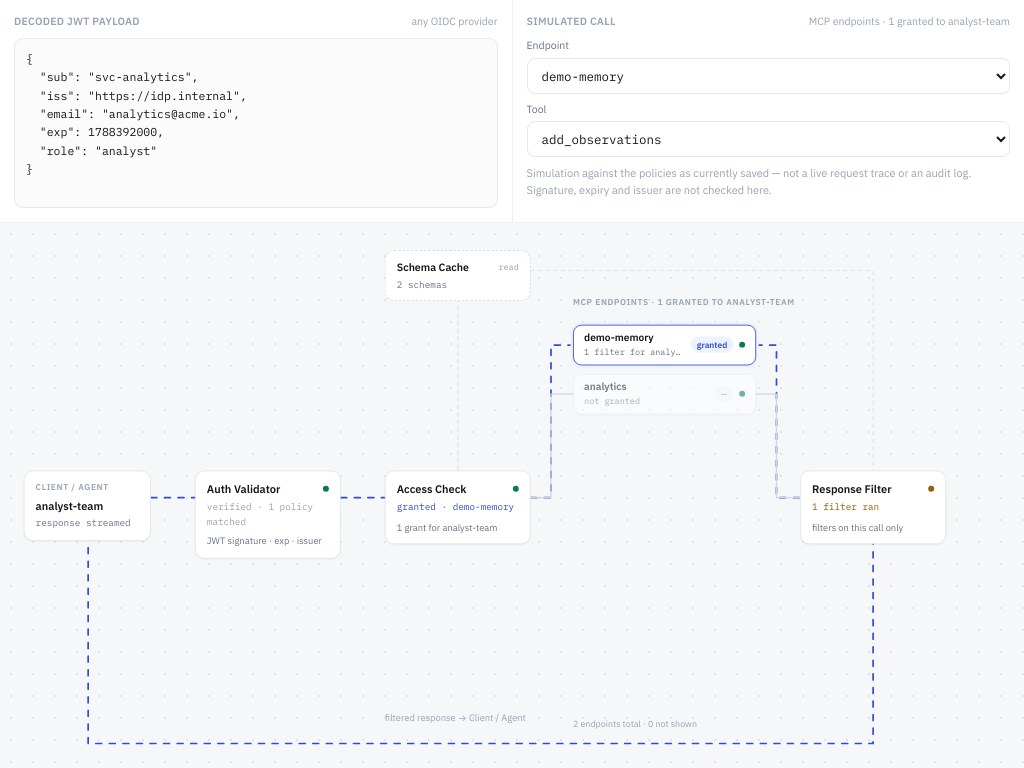
Test: RequestPathTab › editing an input snaps the detail panel back to the request trace, so a new outcome is never hidden behind a stale node selection
Click the button "Response Filter". click: [873, 507]
box: [800, 470, 946, 544]
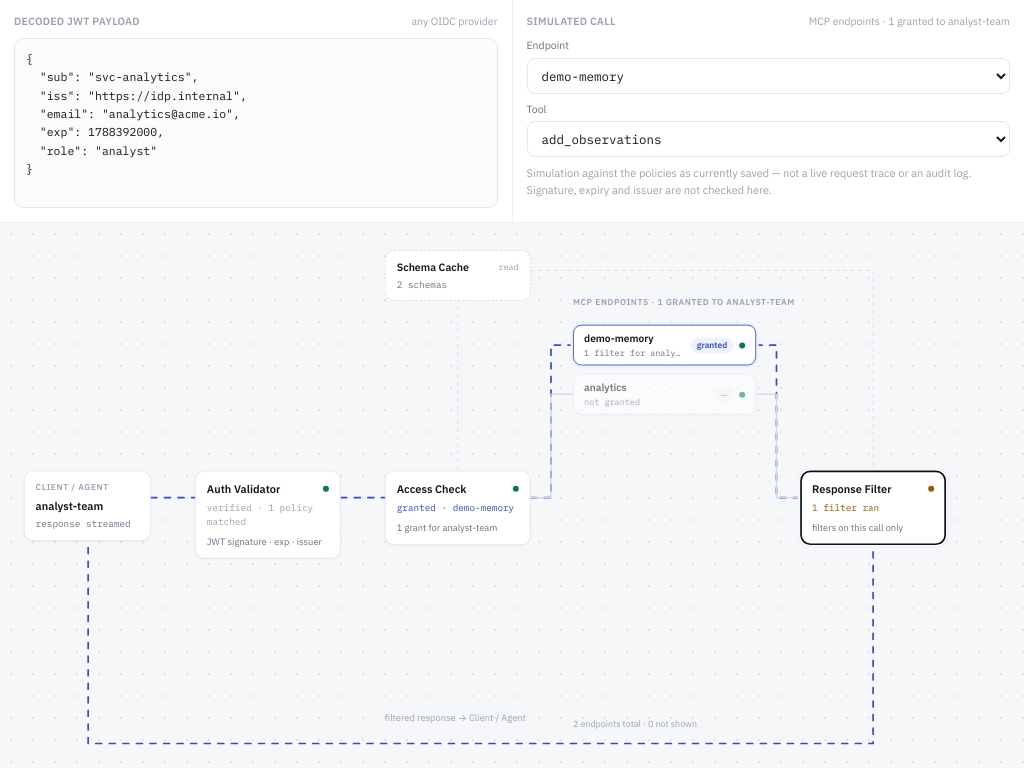
Select "delete_entities" in the dropdown labelled "Tool". click: [768, 139]
box: [526, 121, 1010, 157]
(page scrolled)
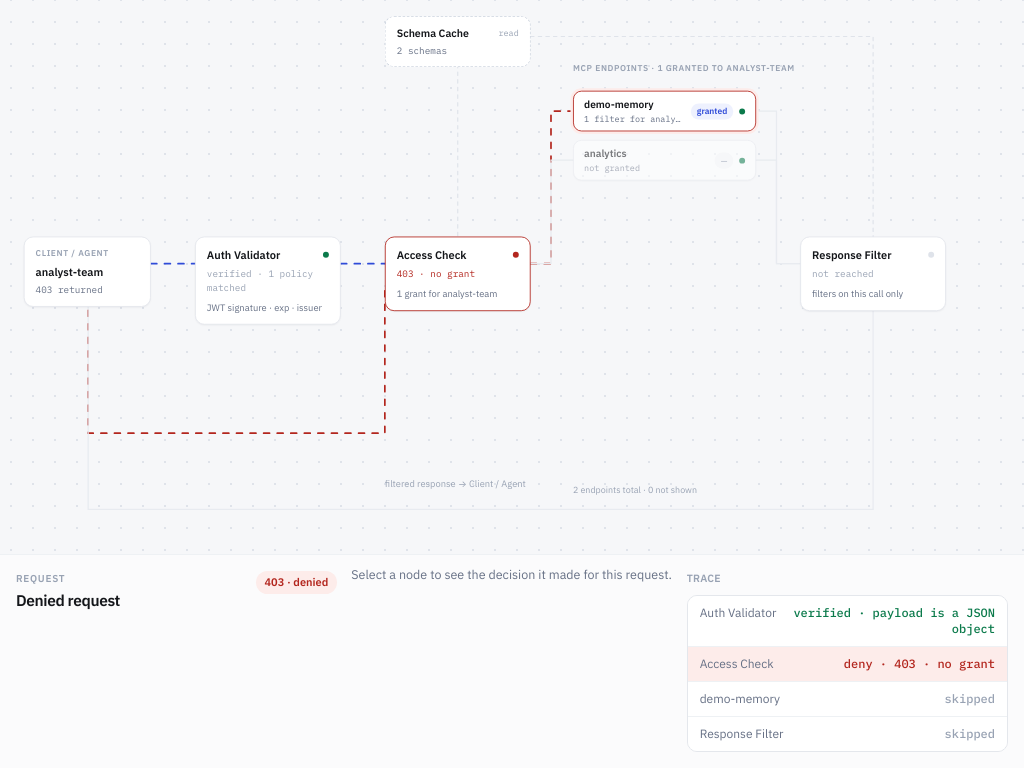
Result: the text "Denied request" is shown at [16, 589, 120, 612]
Result: the text with test id "path-badge" shows "403" at [264, 575, 328, 589]
